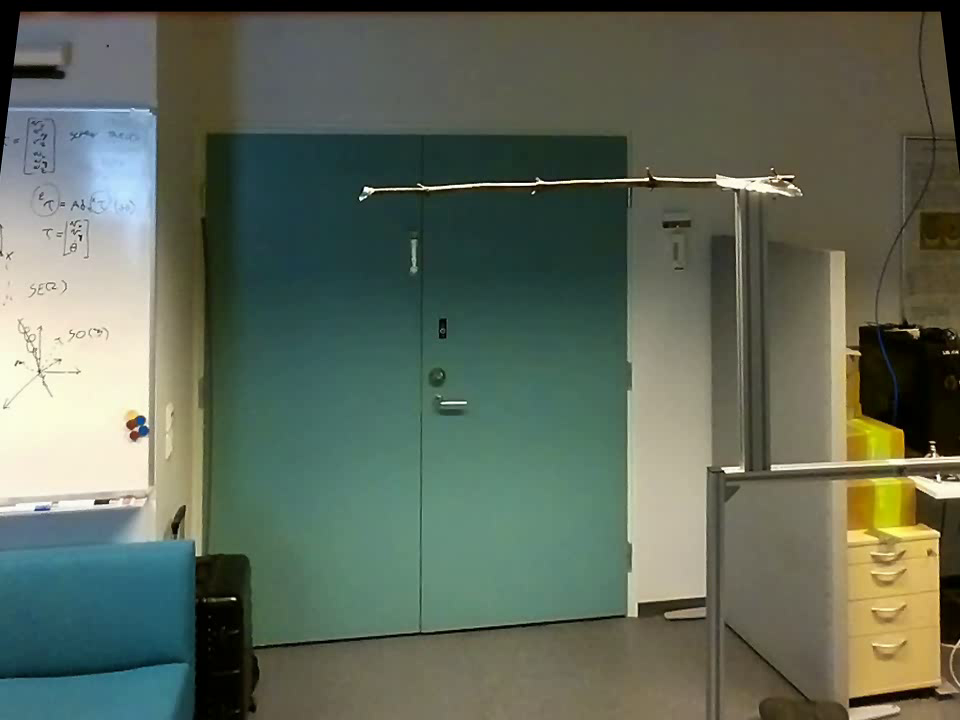aluminum_frame: (728, 190, 773, 465), (718, 450, 957, 490), (697, 458, 729, 718), (1, 478, 160, 526), (145, 109, 163, 503), (5, 103, 156, 117)
branch: (379, 159, 712, 206)
